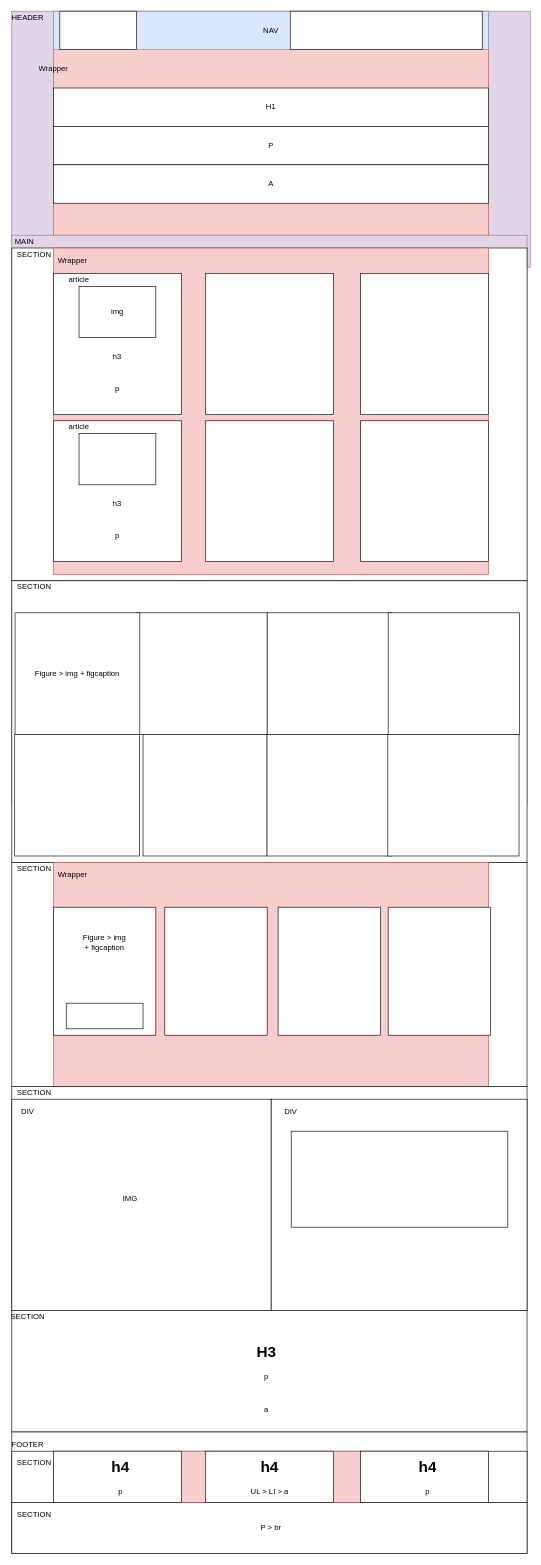
The diagram is 541 pixels wide and 1565 high, and some of its shapes have lost their labels. Each missing label, with the centre of its shape:
A > IMG: point (98, 30)
Blockquote + p > small: point (399, 1179)
DIV > A +A +A +A: point (386, 30)
UL > LI > A: point (104, 1016)
